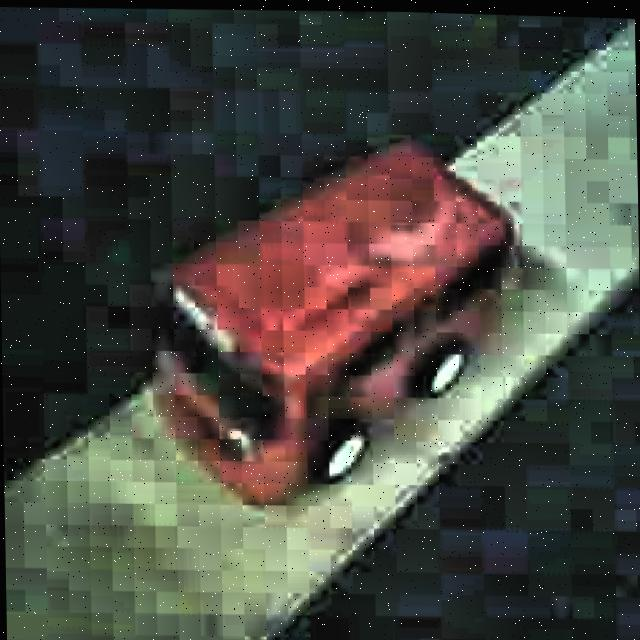bus: (145, 131, 523, 517)
